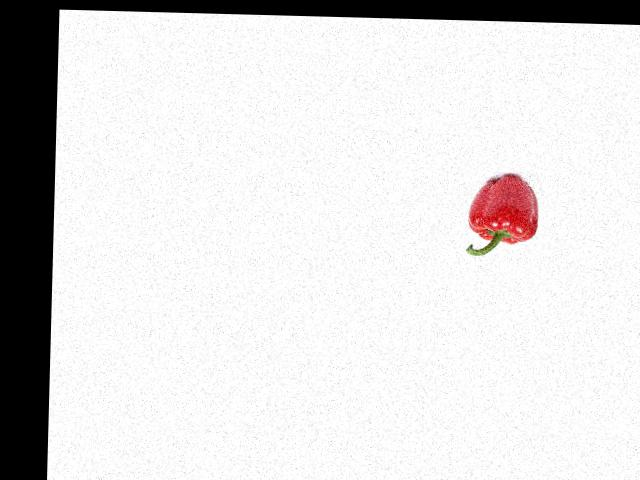bell_pepper: (462, 172, 545, 258)
